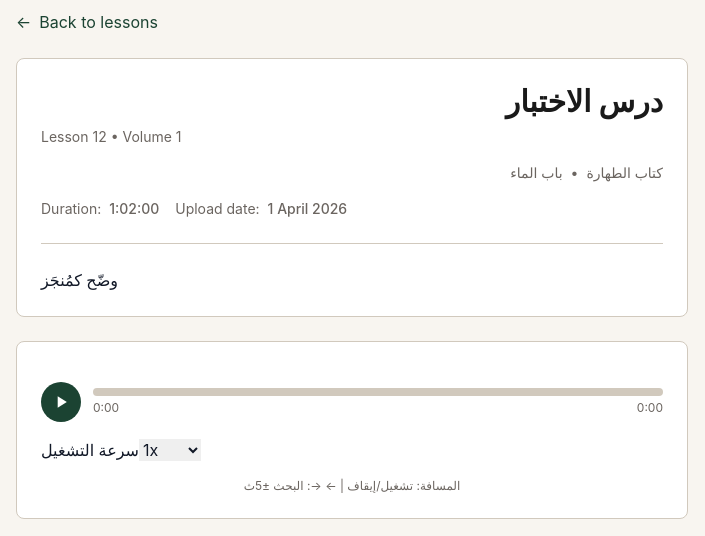
LessonDetail › updates completion badge after marking complete
Expected: the heading "درس الاختبار" is shown, left=506, top=83, right=663, bottom=119
Click the button "وضّح كمُنجَز". click: (80, 280)
box: left=41, top=268, right=118, bottom=292
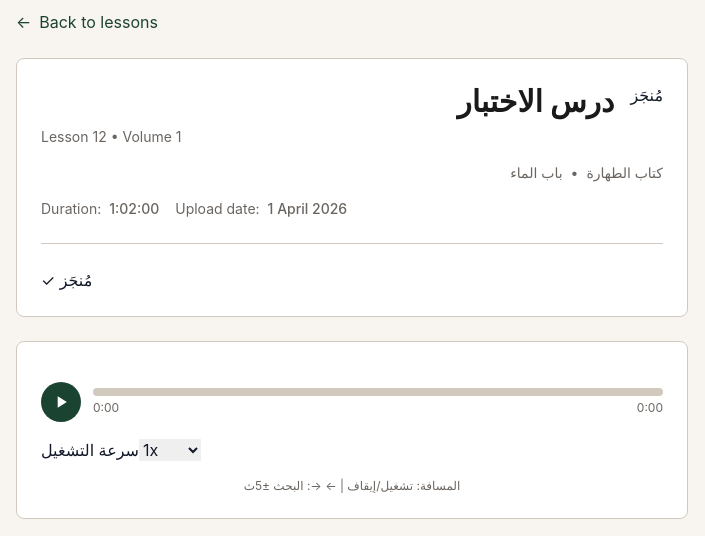
Expected: the text "مُنجَز" is shown, left=630, top=83, right=663, bottom=107
